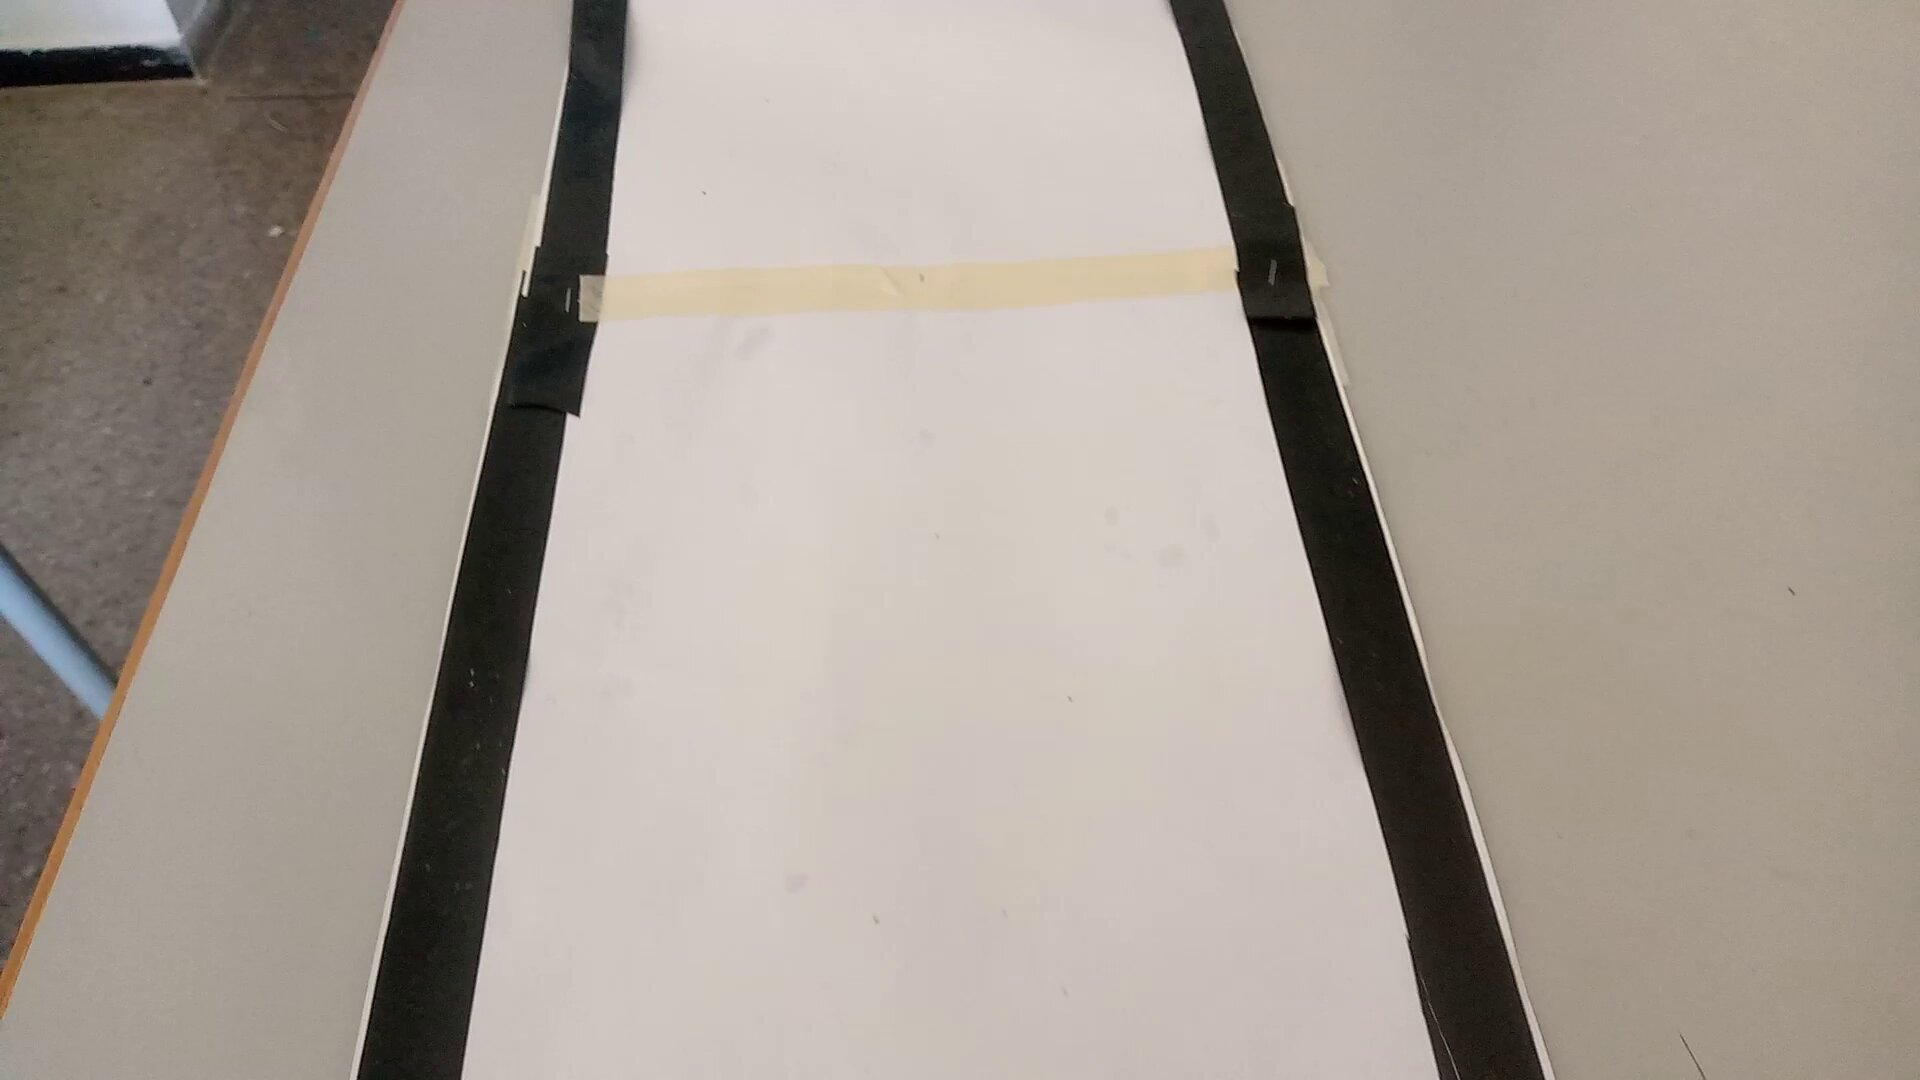forward: (310, 593, 1636, 1014)
right: (492, 65, 1427, 481)
